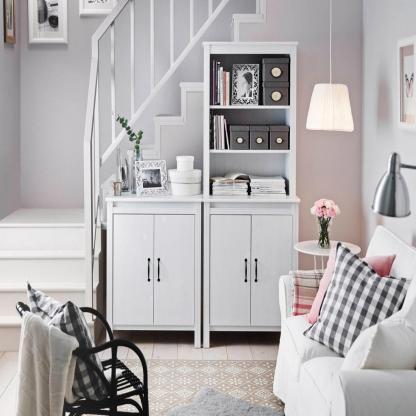Sofa: (272, 219, 416, 416)
